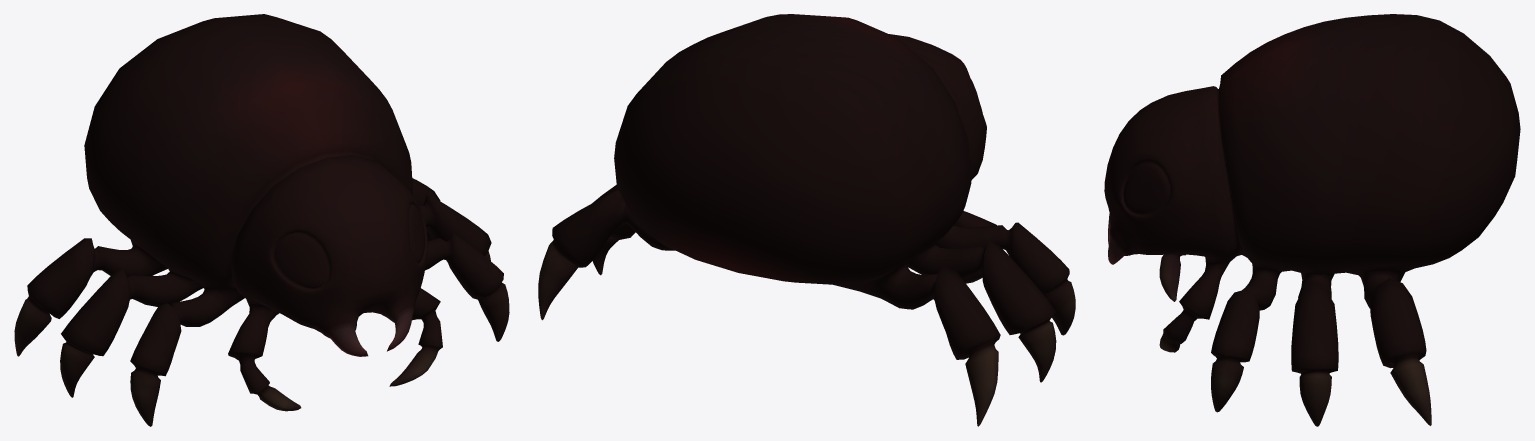
File: tick_smol_lp.fbx
The picture shows the model from 3 angles, left to right: view 1: azimuth 30°, elevation 25°; view 2: azimuth 150°, elevation 25°; view 3: azimuth 270°, elevation 25°; orthographic projection. The views are drawn at different scales.
Parts seen in each view (by area): view 1: tick_smol; view 2: tick_smol; view 3: tick_smol.
Boxes of the visible parts, <box> form: tick_smol: <box>14,14,509,426</box>; tick_smol: <box>538,14,1075,426</box>; tick_smol: <box>1104,14,1520,426</box>.
Bounding box in the file's own units: 47.92 × 31.47 × 40.01.
